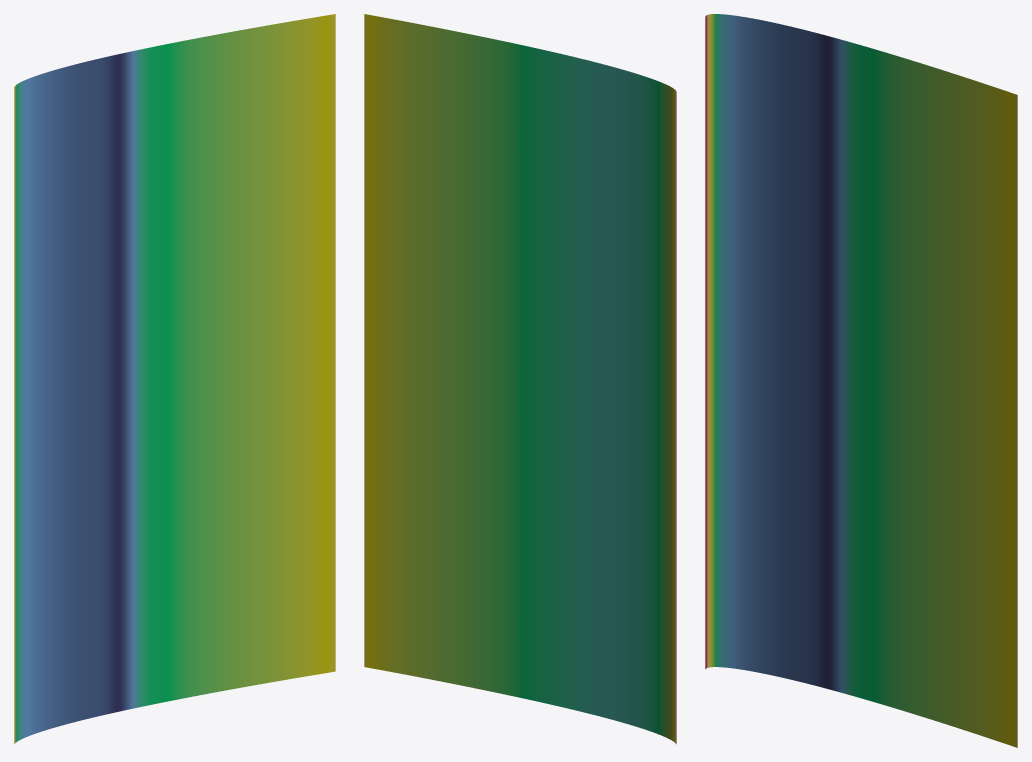
File: morphing_wing_8.glb
3 renders of one model, left to right at view 1: azimuth 30°, elevation 25°; view 2: azimuth 150°, elevation 25°; view 3: azimuth 330°, elevation 25°, orthographic.
Visible parts, largest first — view 1: part_0_0; view 2: part_0_0; view 3: part_0_0.
Part boxes in pixels (<box>): part_0_0: <box>14,14,335,743</box>; part_0_0: <box>364,14,676,744</box>; part_0_0: <box>705,14,1017,747</box>.
Size of the model in its own units: 1.01 by 2 by 0.1208.
